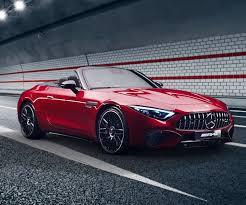mercedes: (201, 110, 220, 130)
